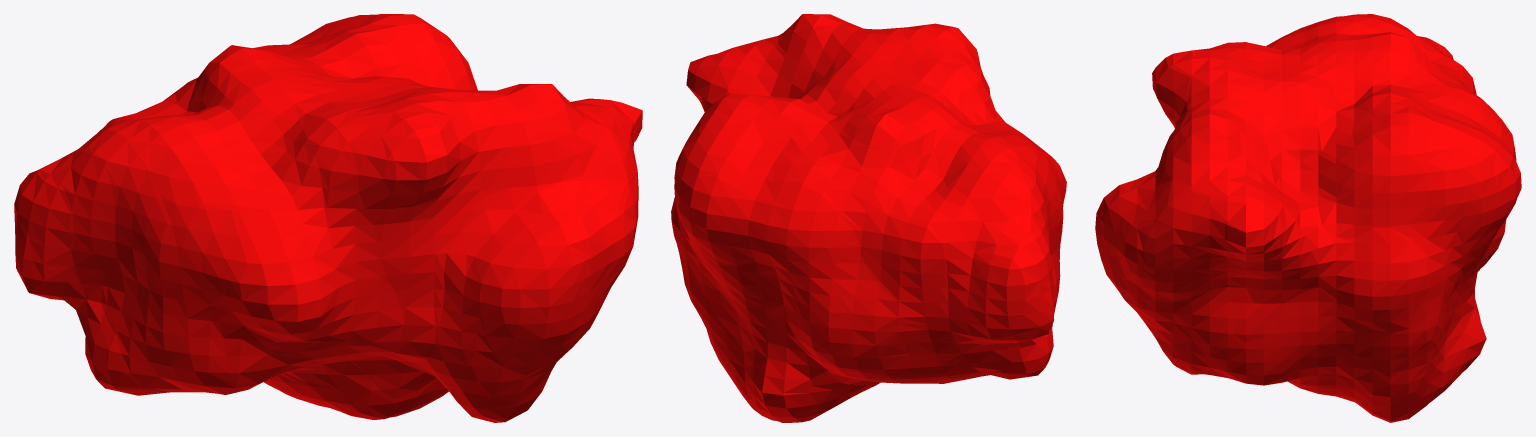
The model's file is yjfP_coarse.dae.
The picture shows the model from 3 angles, left to right: view 1: azimuth 30°, elevation 25°; view 2: azimuth 150°, elevation 25°; view 3: azimuth 270°, elevation 25°; orthographic projection. The views are drawn at different scales.
Visible parts, largest first — view 1: yjfP; view 2: yjfP; view 3: yjfP.
Boxes of the visible parts, x1,y1,x2,y2 form: yjfP: [14, 14, 642, 422]; yjfP: [671, 14, 1066, 422]; yjfP: [1095, 14, 1521, 422].
Bounding box in the file's own units: 60.88 × 43.44 × 49.87.
